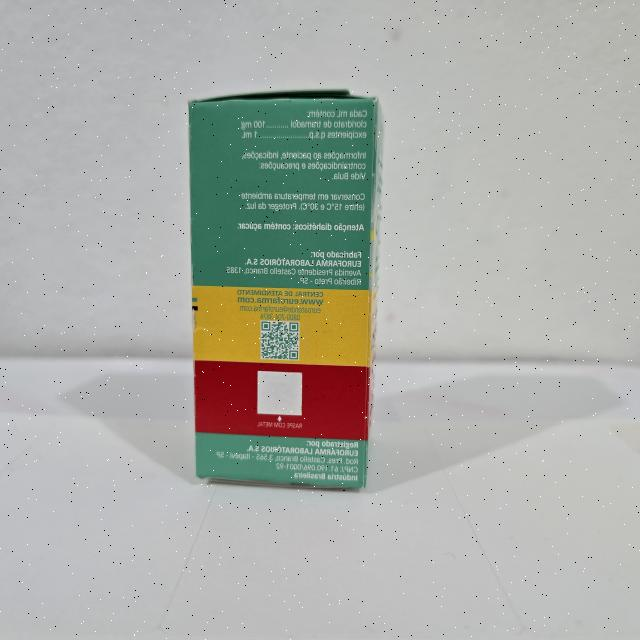tramadol: (182, 84, 391, 495)
